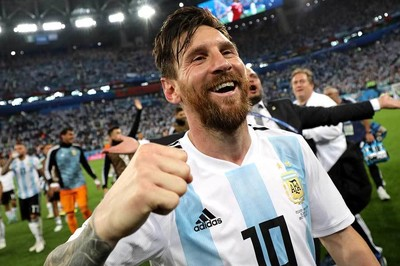face: (162, 22, 249, 131), (290, 69, 315, 99)
hand: (99, 141, 193, 237), (107, 134, 137, 156), (379, 92, 400, 112)
